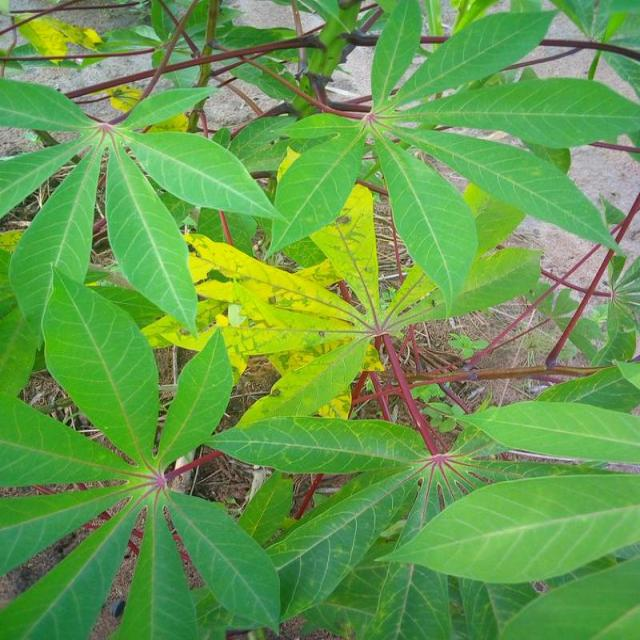cassava leaf: (1, 1, 638, 637), (374, 470, 640, 584), (40, 264, 159, 465), (372, 122, 478, 316), (104, 129, 198, 337)
